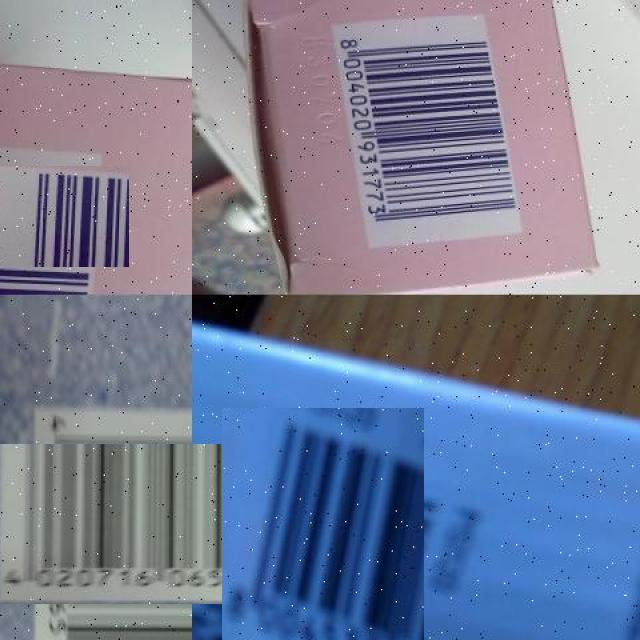Barcode: (206, 423, 438, 640), (328, 12, 524, 252), (14, 426, 210, 622), (0, 152, 115, 281)
